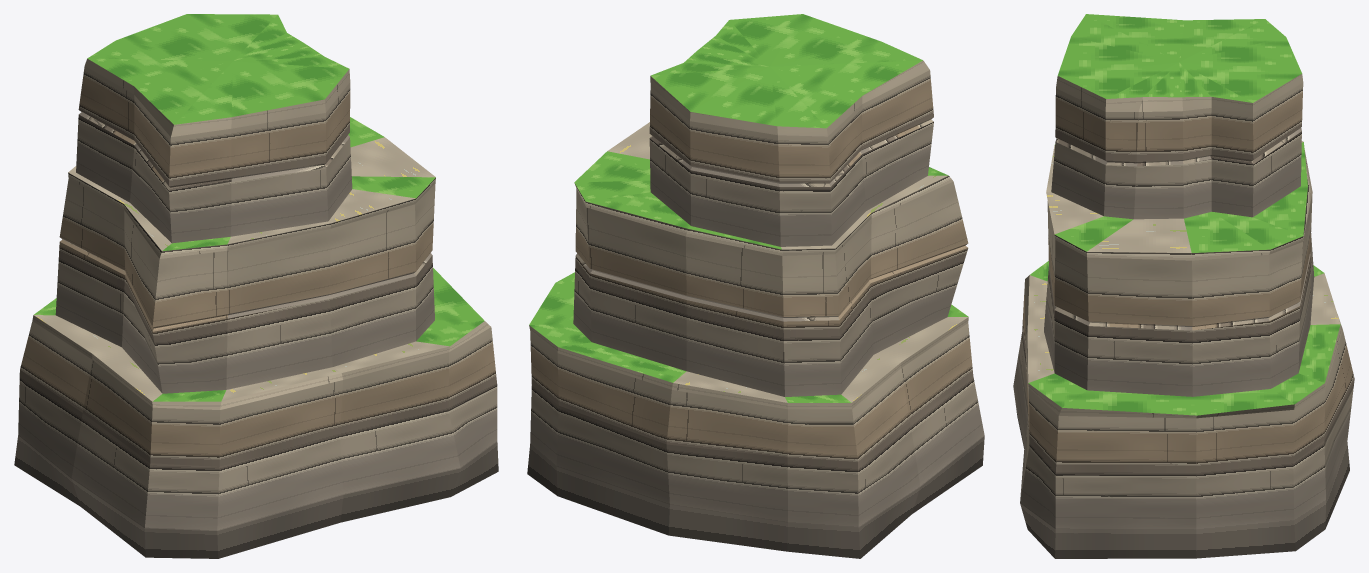
File: p_bi_stack_b.glb
3 views of the same model, side by side, from view 1: azimuth 30°, elevation 25°; view 2: azimuth 150°, elevation 25°; view 3: azimuth 270°, elevation 25° (orthographic). The views are drawn at different scales.
Visible parts, largest first — view 1: p_bi_stack_b_lod0; view 2: p_bi_stack_b_lod0; view 3: p_bi_stack_b_lod0.
Boxes of the visible parts, left/top/right/bottom form: p_bi_stack_b_lod0: left=14, top=14, right=498, bottom=558; p_bi_stack_b_lod0: left=527, top=14, right=984, bottom=558; p_bi_stack_b_lod0: left=1013, top=14, right=1354, bottom=558.
Size of what is drawn, in the model's own units: 10.13 by 10.98 by 8.46.
1 material, 1 textured.
